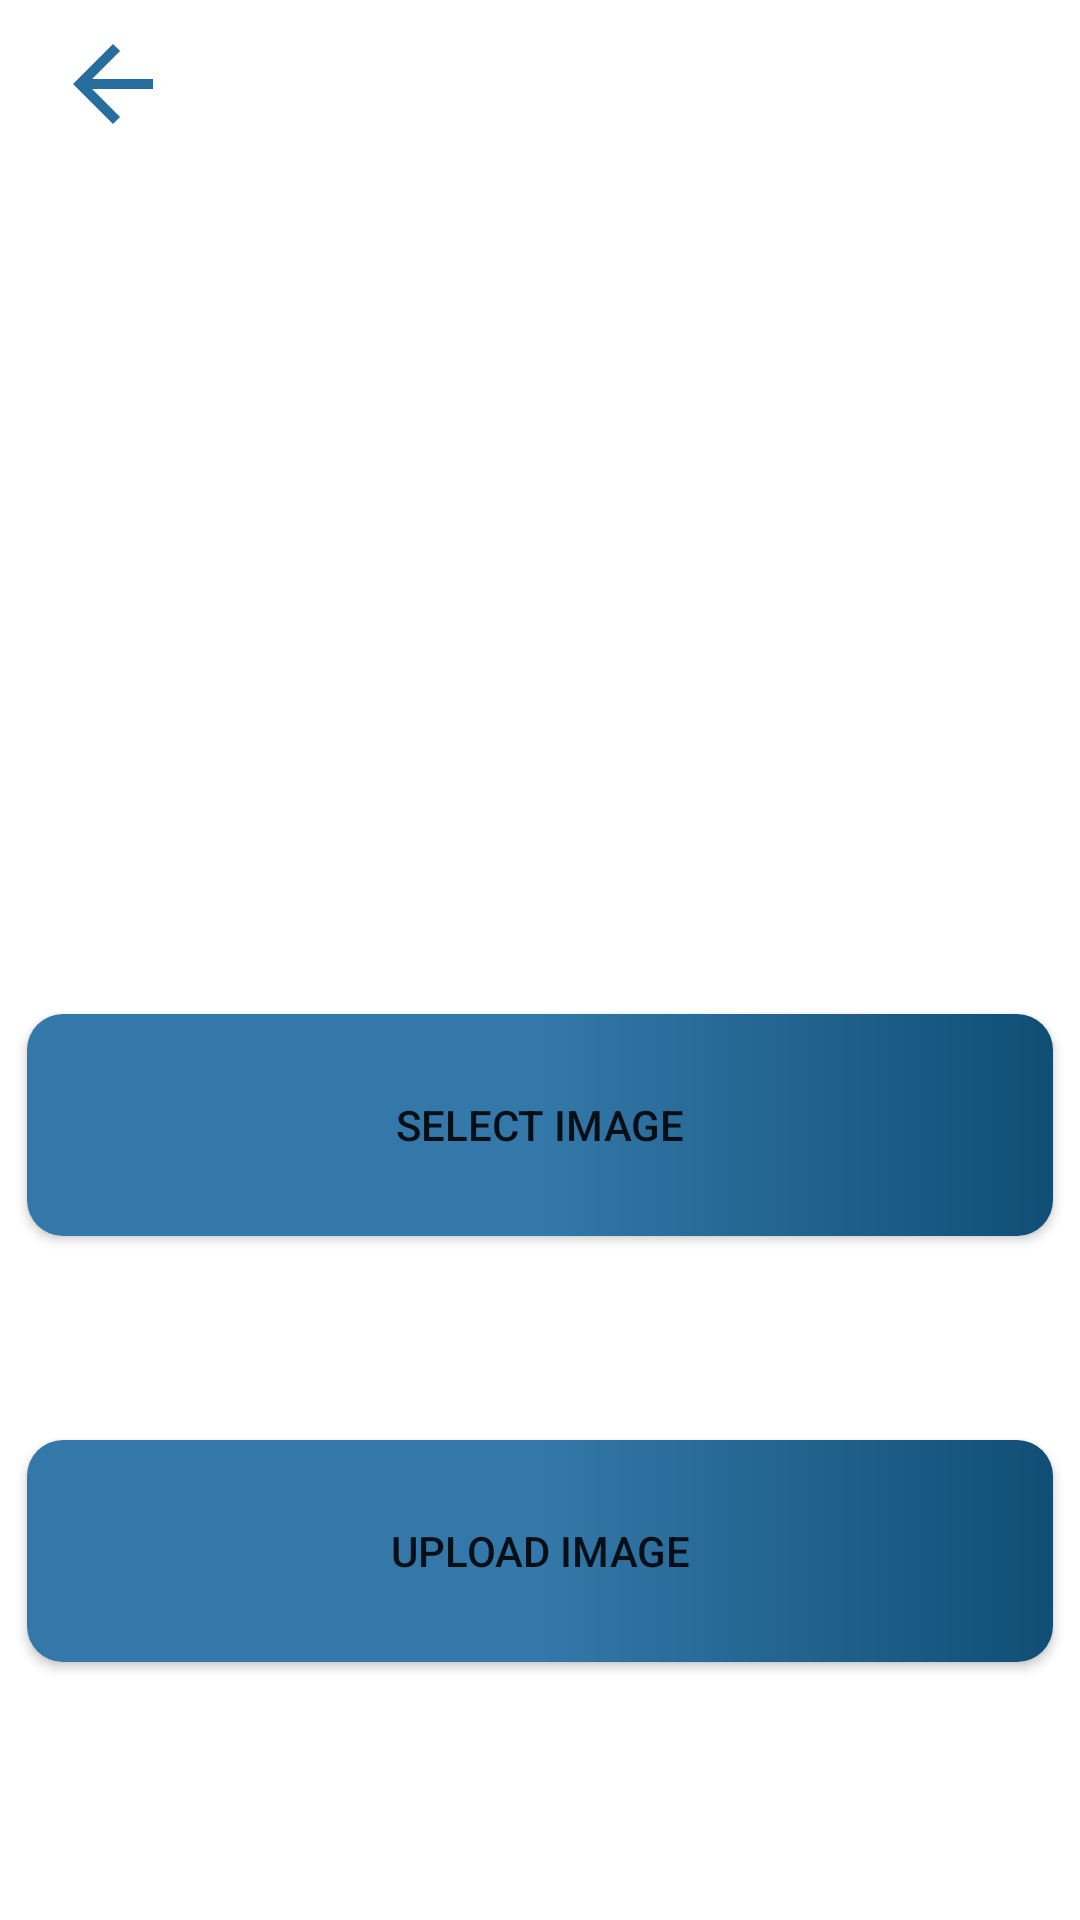

Named icons in this screenshot (1080px x 1920px) and their centers, point (x, y):
arrow back: point (113, 84)
